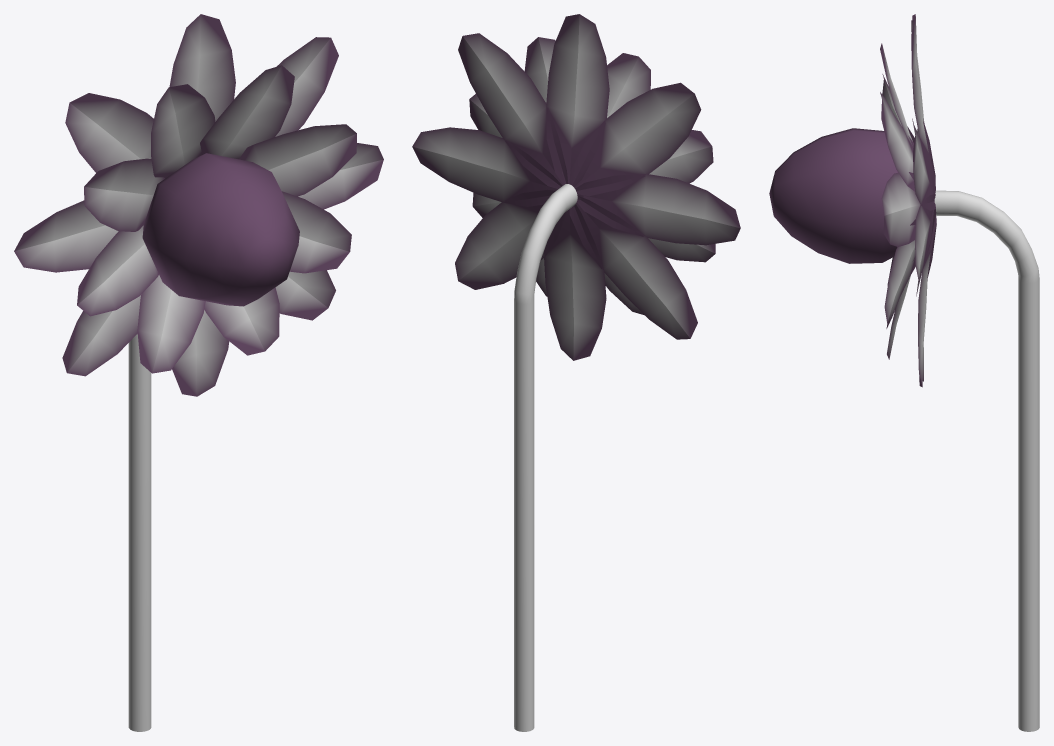
The model's file is posie.fbx.
3 renders of one model, left to right at view 1: azimuth 30°, elevation 25°; view 2: azimuth 150°, elevation 25°; view 3: azimuth 270°, elevation 25°, orthographic. The views are drawn at different scales.
Parts seen in each view (by area): view 1: posiepetals, posiestem; view 2: posiepetals, posiestem; view 3: posiepetals, posiestem.
Part boxes in pixels (box(x1,y1,x2,y2)): posiepetals: box(14, 14, 383, 396); posiestem: box(128, 334, 151, 731); posiepetals: box(412, 14, 740, 360); posiestem: box(514, 184, 577, 731); posiepetals: box(769, 14, 936, 387); posiestem: box(934, 190, 1039, 731).
Bounding box in the file's own units: 141 × 276 × 95.5.
